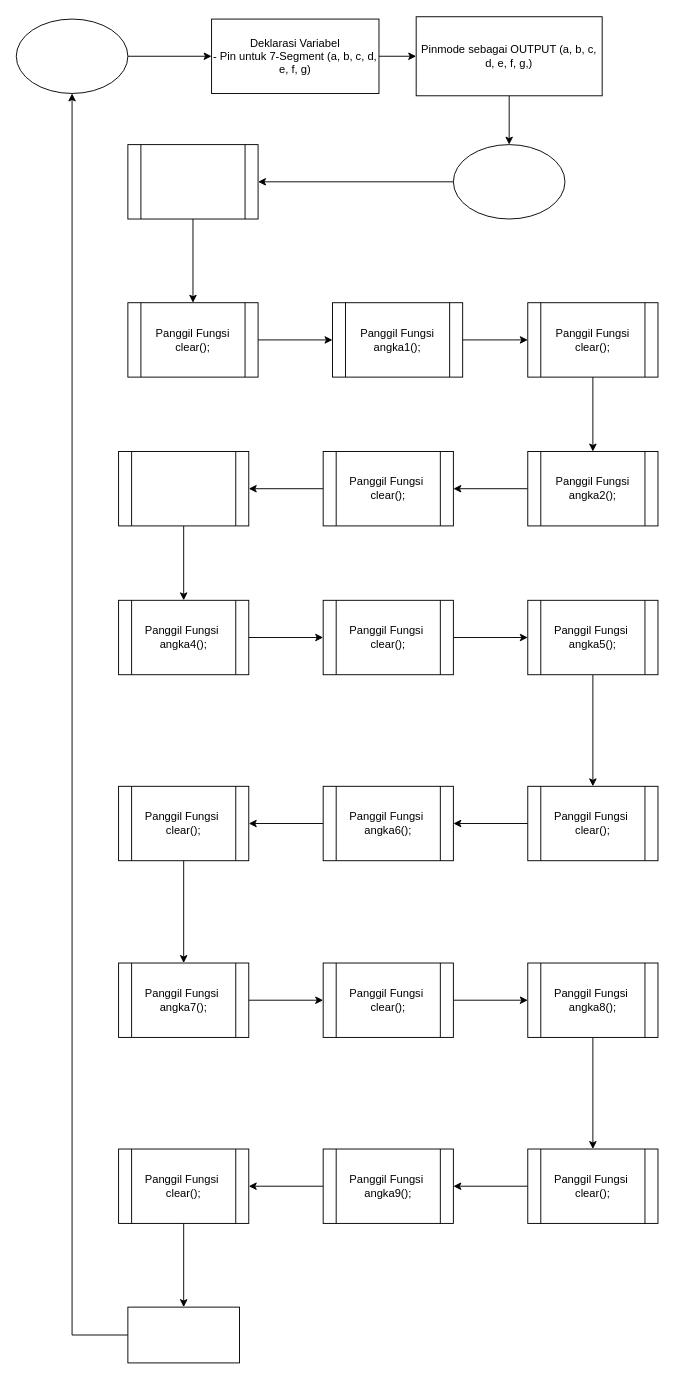
The diagram is 674 pixels wide and 1379 high, and some of its shapes have lost their labels. The centre of each missing label's shape, as x and y in pixels:
"Kembali ke START LOOP" belongs at (x=183, y=1334).
"Mulai" belongs at (x=71, y=55).
"Panggil Fungsi angka0();" belongs at (x=192, y=181).
"Panggil Fungsi angka3();" belongs at (x=183, y=488).
"START LOOP" belongs at (x=508, y=181).
